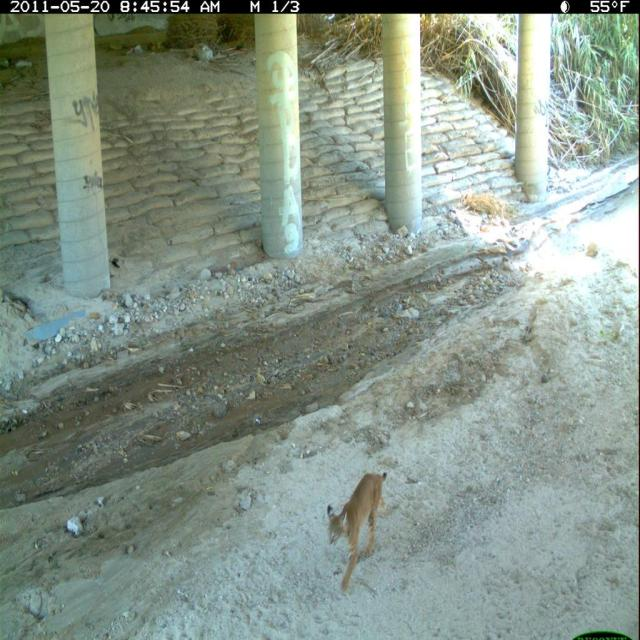bobcat: (325, 469, 391, 596)
